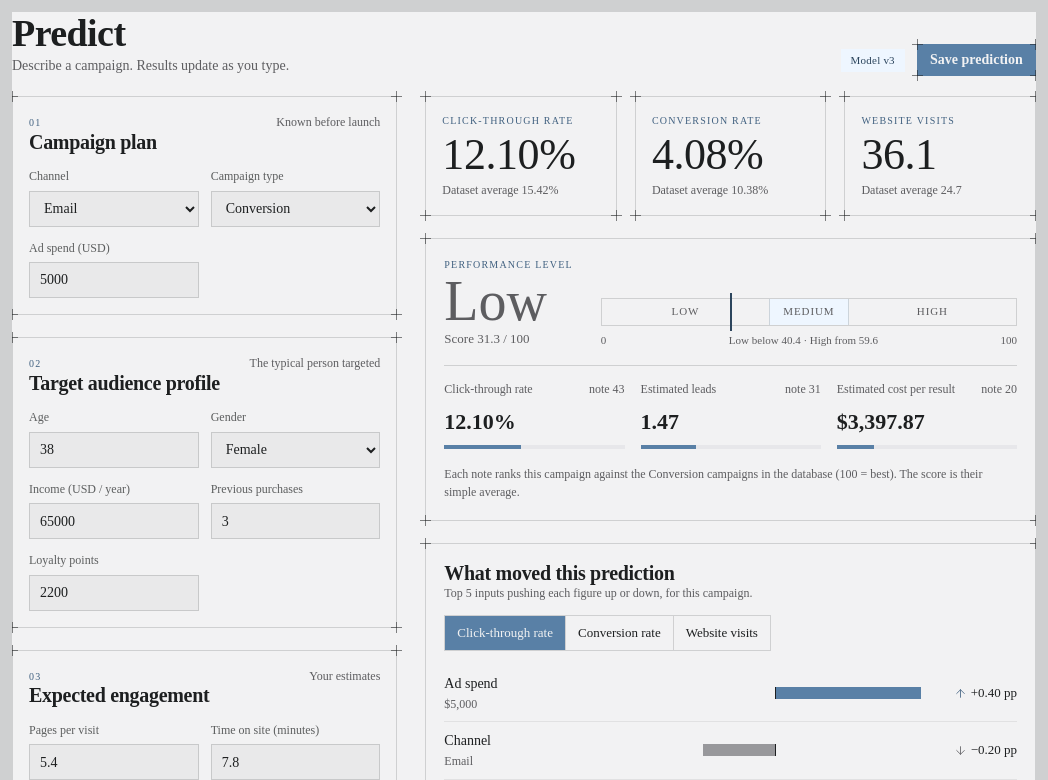
Test case: PredictView (live results, no Predict button) › warns, without blocking, about a value outside what the model has seen
Replace the text in the field labelled "Ad spend (USD)" with "12000". click: (114, 280)
box: [29,262,199,298]
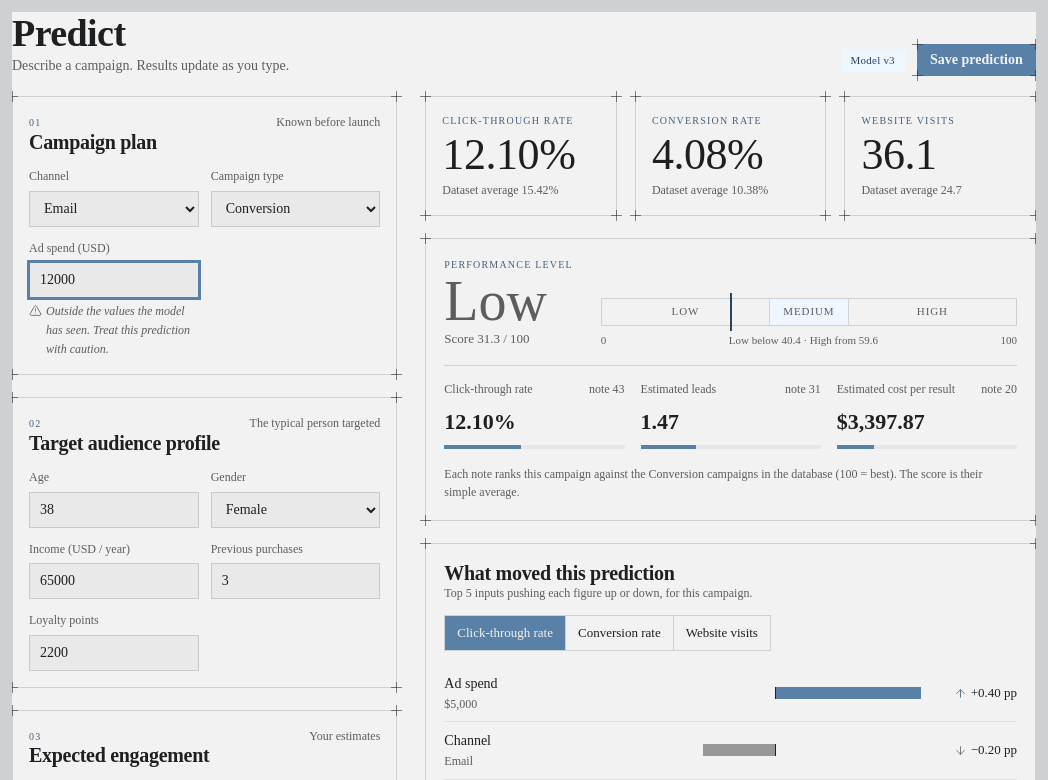
Result: the element with test id "field-warning" reads "Outside the values the model has seen. Treat this prediction with caution." at [46,304,190,356]
